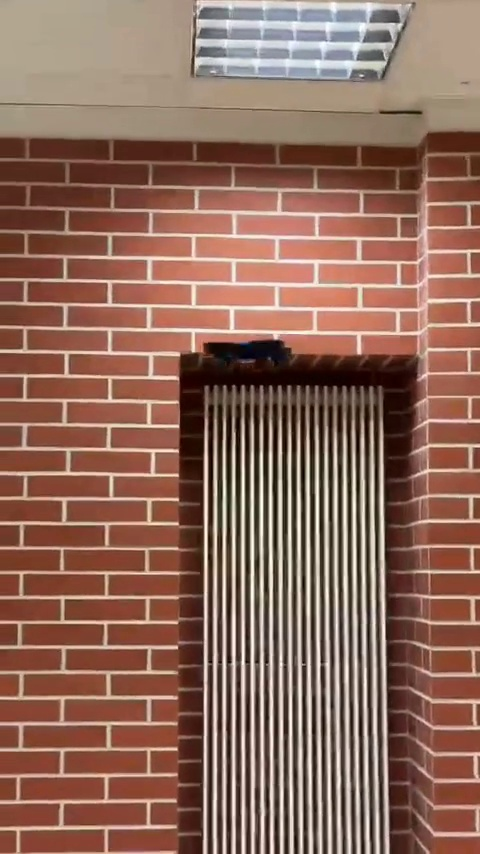drone: (198, 331, 289, 367)
